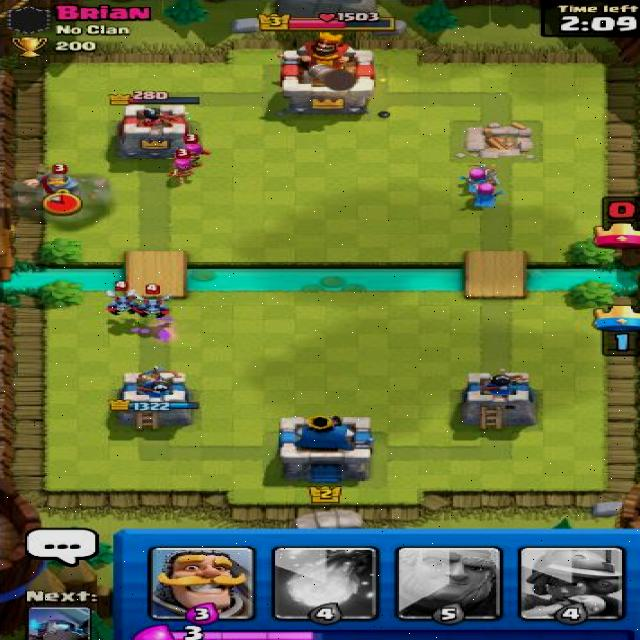Enemy-Archer: (163, 148, 200, 184), (176, 133, 212, 168)
Enemy-Knight: (20, 163, 86, 207)
Enemy-Minion: (130, 284, 174, 319), (104, 279, 144, 316)
Player-Archer: (456, 162, 502, 195), (468, 178, 506, 209)
